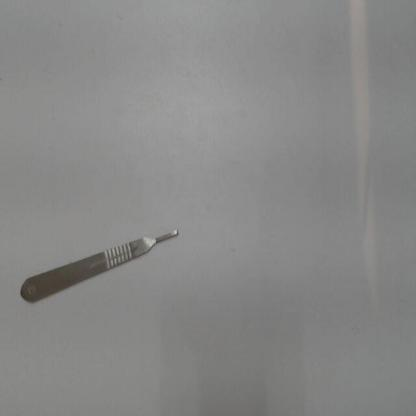No.3 BP Handle: (16, 219, 186, 318), (15, 219, 184, 318)
